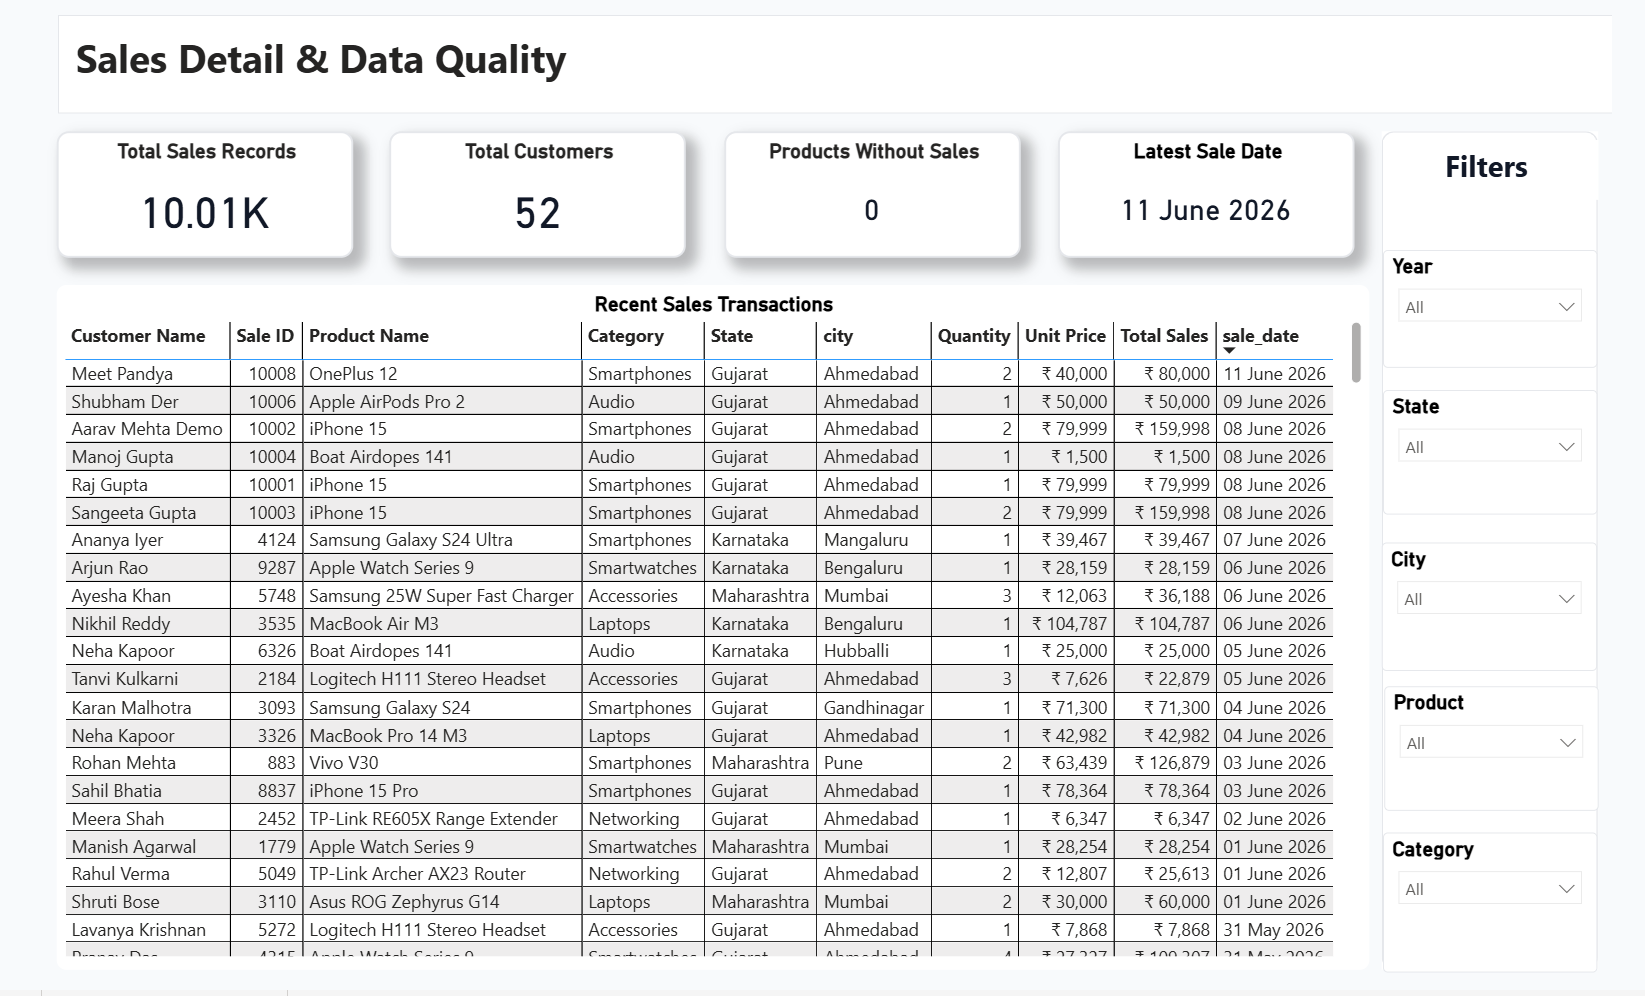

Layout of this report page (visuals, bound fields, positions):
{"tool":"powerbi","page":{"name":"Sales Detail & Data Quality","canvas":[1300,820],"ordinal":3},"visuals":[{"type":"textbox","box":[12.1,12.1,1315.6,81.6],"z":0},{"type":"shape","box":[1109.3,109.1,179,694.4],"z":0,"group":"g2"},{"type":"group","id":"g1","title":"Group 1","box":[11.3,109.1,1075.3,104.8],"z":1000},{"type":"card","title":"Total Sales Records","fields":{"Values":["CountNonNull(vw_sales_enriched.sale_id)"]},"box":[11.3,109.1,245.5,104.8],"z":1000,"group":"g1"},{"type":"card","title":"Total Customers","fields":{"Values":["Count(vw_sales_enriched.customer_name)"]},"box":[286.3,109.1,245.5,104.8],"z":2000,"group":"g1"},{"type":"card","title":"Products Without Sales","fields":{"Values":["vw_products_without_sales.Products Without Sales Count"]},"box":[564.5,109.1,245.5,104.8],"z":3000,"group":"g1"},{"type":"card","title":"Latest Sale Date","fields":{"Values":["Max(vw_sales_enriched.sale_date)"]},"box":[841.1,109.1,245.5,104.8],"z":4000,"group":"g1"},{"type":"group","id":"g2","title":"Group 2","box":[1109.3,109.1,179.9,697],"z":4000},{"type":"textbox","box":[1110.3,116.1,178,49.6],"z":5000,"group":"g2"},{"type":"tableEx","title":"Recent Sales Transactions","fields":{"Values":["vw_sales_enriched.customer_name","Sum(vw_sales_enriched.sale_id)","vw_sales_enriched.product_name","vw_sales_enriched.category","vw_sales_enriched.state","vw_sales_enriched.city","Sum(vw_sales_enriched.quantity)","Sum(vw_sales_enriched.unit_price)","Sum(vw_sales_enriched.total_sales)","vw_sales_enriched.sale_date"]},"box":[11.7,235.9,1087.3,567.1],"z":5000},{"type":"slicer","title":"Year","fields":{"Values":["vw_monthly_sales.sale_year"]},"box":[1110.6,207.6,177.4,97.4],"z":6000,"group":"g2"},{"type":"slicer","title":"State ","fields":{"Values":["vw_sales_enriched.state"]},"box":[1110.6,323.6,177.4,103.1],"z":7000,"group":"g2"},{"type":"slicer","title":"City","fields":{"Values":["vw_sales_enriched.city"]},"box":[1109.3,449.1,178.5,106.3],"z":7000},{"type":"slicer","title":"Category","fields":{"Values":["vw_sales_enriched.category"]},"box":[1110.6,690.2,177.4,116],"z":8000,"group":"g2"},{"type":"slicer","title":"Product ","fields":{"Values":["vw_sales_enriched.product_name","vw_sales_enriched.city"]},"box":[1111.8,568.5,177.4,103.1],"z":9000,"group":"g2"}]}

Visuals, with their boxes on the page's 1300x820 design canvas (x1, y1, x2, y2). These are canvas units, not pixel positions in the 1645x996 screenshot, which may show the page scaled, cropped or inside an application window:
textbox: 12, 12, 1328, 94
shape: 1109, 109, 1288, 804
"Group 1" group: 11, 109, 1087, 214
"Total Sales Records" card: 11, 109, 257, 214
"Total Customers" card: 286, 109, 532, 214
"Products Without Sales" card: 564, 109, 810, 214
"Latest Sale Date" card: 841, 109, 1087, 214
"Group 2" group: 1109, 109, 1289, 806
textbox: 1110, 116, 1288, 166
"Recent Sales Transactions" tableEx: 12, 236, 1099, 803
"Year" slicer: 1111, 208, 1288, 305
"State " slicer: 1111, 324, 1288, 427
"City" slicer: 1109, 449, 1288, 555
"Category" slicer: 1111, 690, 1288, 806
"Product " slicer: 1112, 568, 1289, 672
